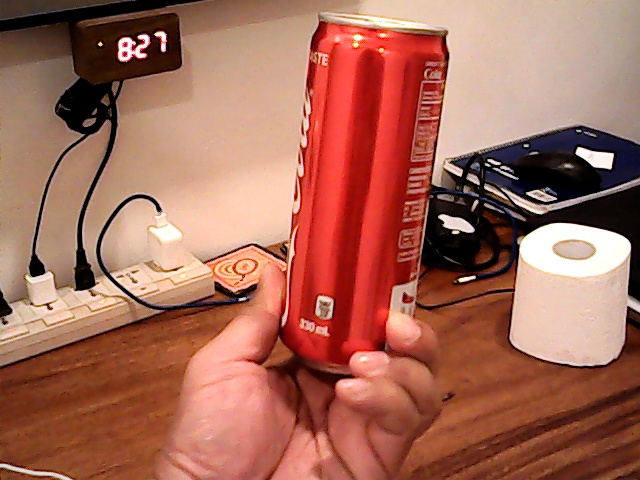Cola: (256, 1, 468, 369)
